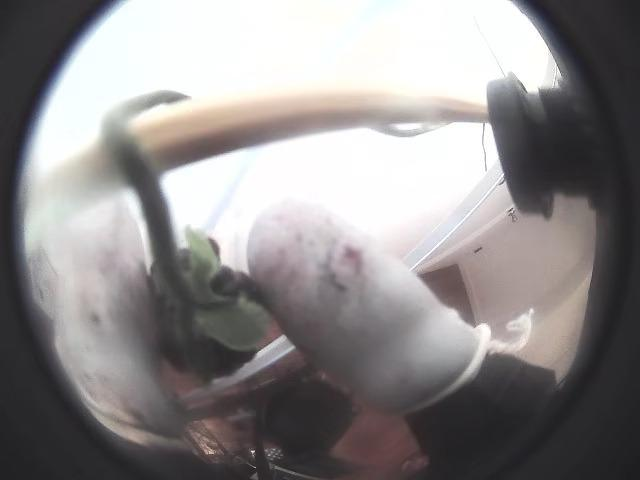berry: (149, 227, 267, 378)
gripper: (246, 199, 529, 413), (53, 200, 171, 441)
lense: (0, 0, 214, 479), (432, 0, 639, 479)
